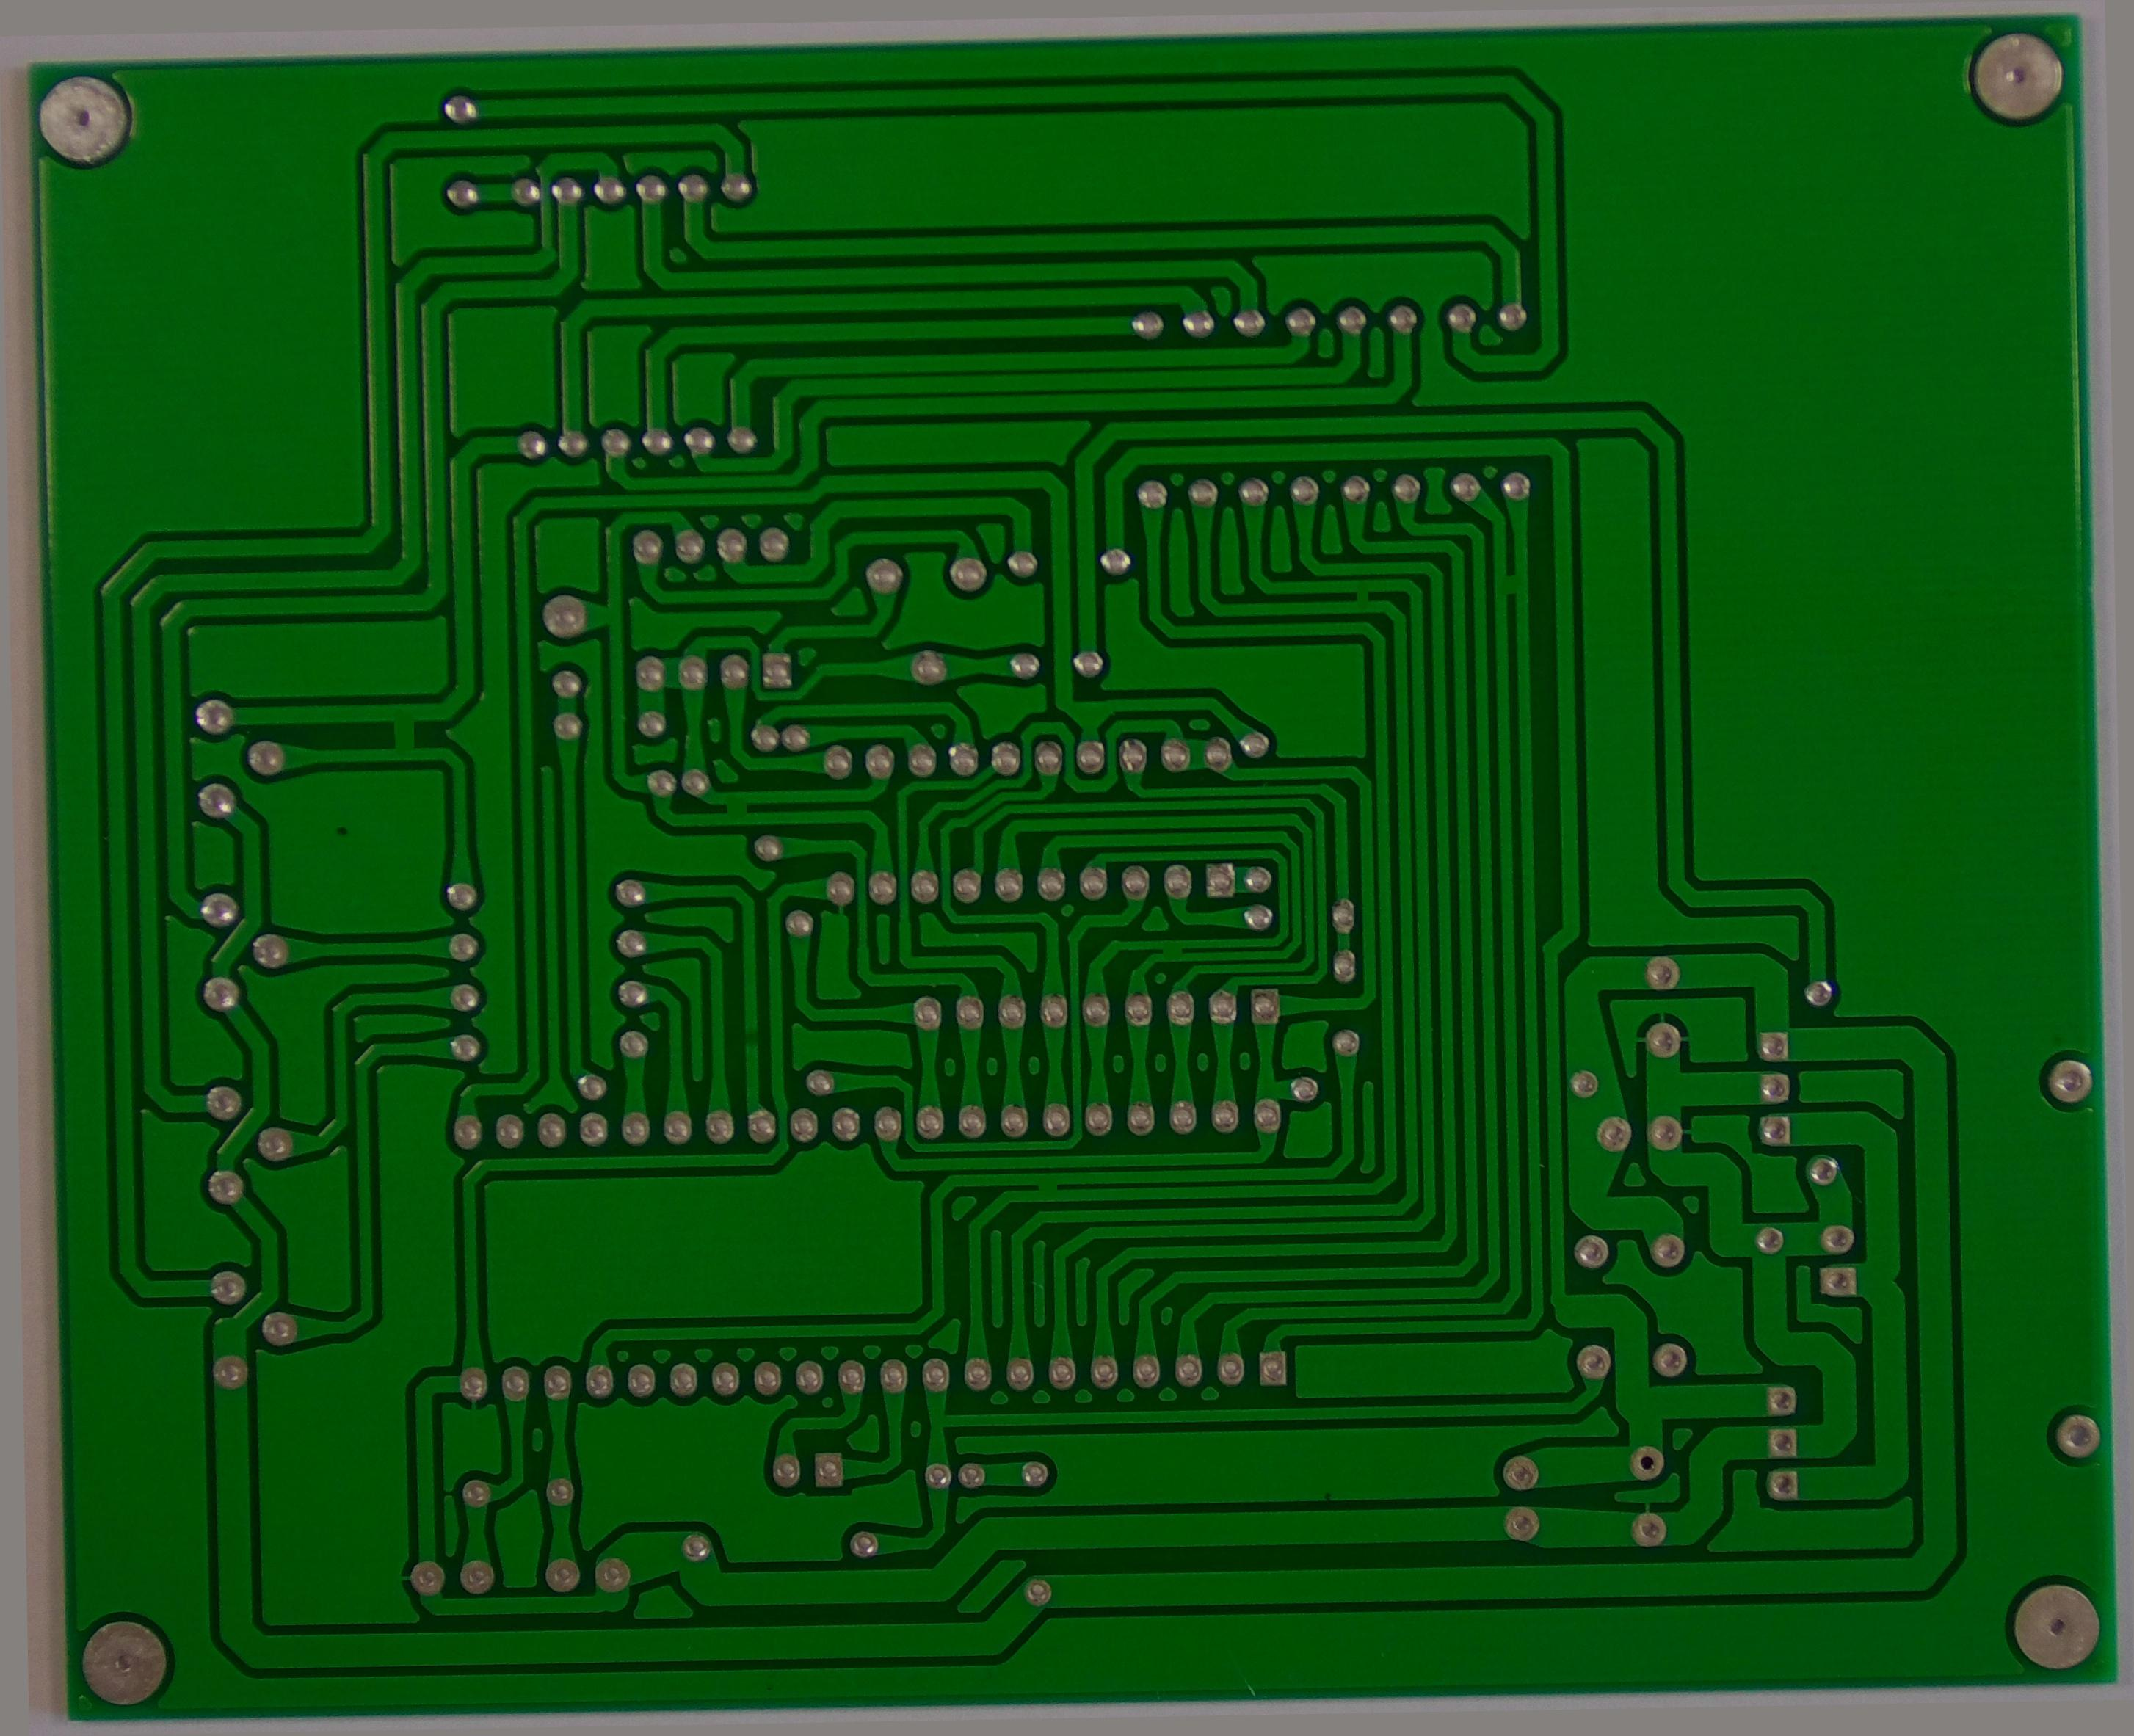short: (367, 703, 434, 765), (714, 788, 758, 829), (1488, 565, 1535, 602), (1342, 577, 1383, 616), (1027, 1167, 1068, 1205)
